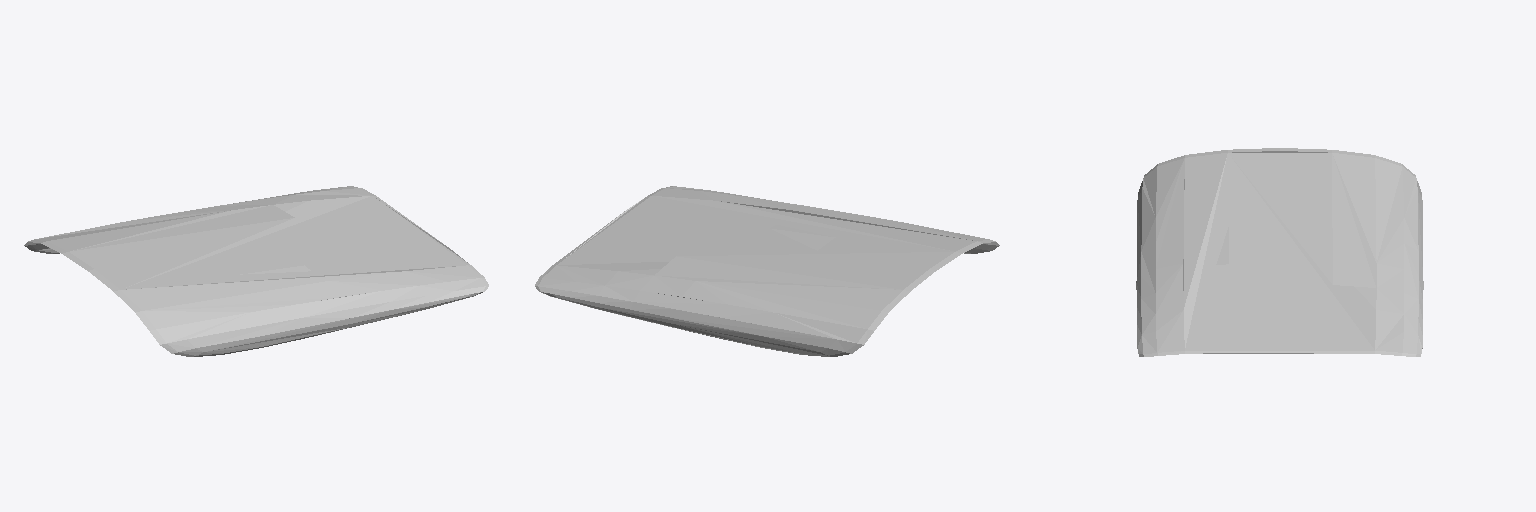
File: blanket in bed.obj
3 renders of one model, left to right at view 1: azimuth 30°, elevation 25°; view 2: azimuth 150°, elevation 25°; view 3: azimuth 270°, elevation 25°, orthographic.
Visible parts, largest first — view 1: Plane; view 2: Plane; view 3: Plane.
Boxes of the visible parts, box(x1,y1,x2,y2) form: Plane: box(24, 186, 488, 356); Plane: box(535, 186, 999, 356); Plane: box(1136, 148, 1423, 356).
Bounding box in the file's own units: 1.92 × 0.2864 × 1.42.